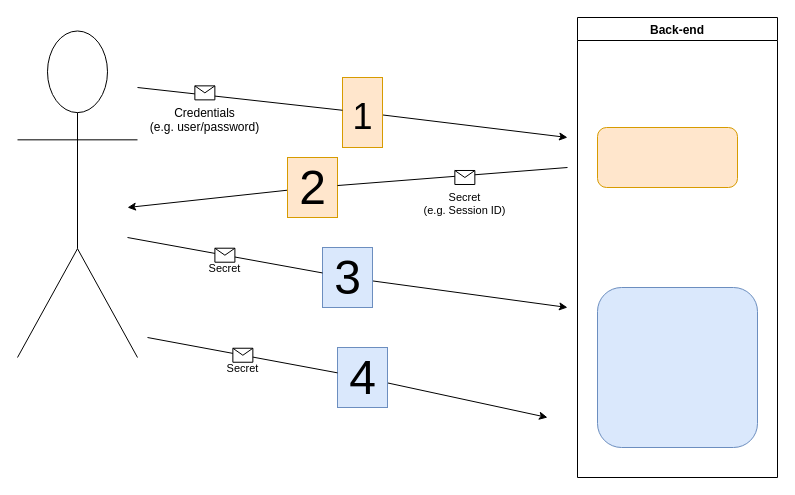
The diagram is 795 pixels wide and 495 high, and some of its shapes have lost their labels. The box of each missing label's shape, as (x1, y1, x2, y2) in pixels:
Authentication logic (e.g. is the password correct?): (596, 126, 738, 188)
Authorization logic (e.g. are you allowed to start a marketing campaign?): (596, 286, 758, 448)
User: (16, 30, 138, 358)
